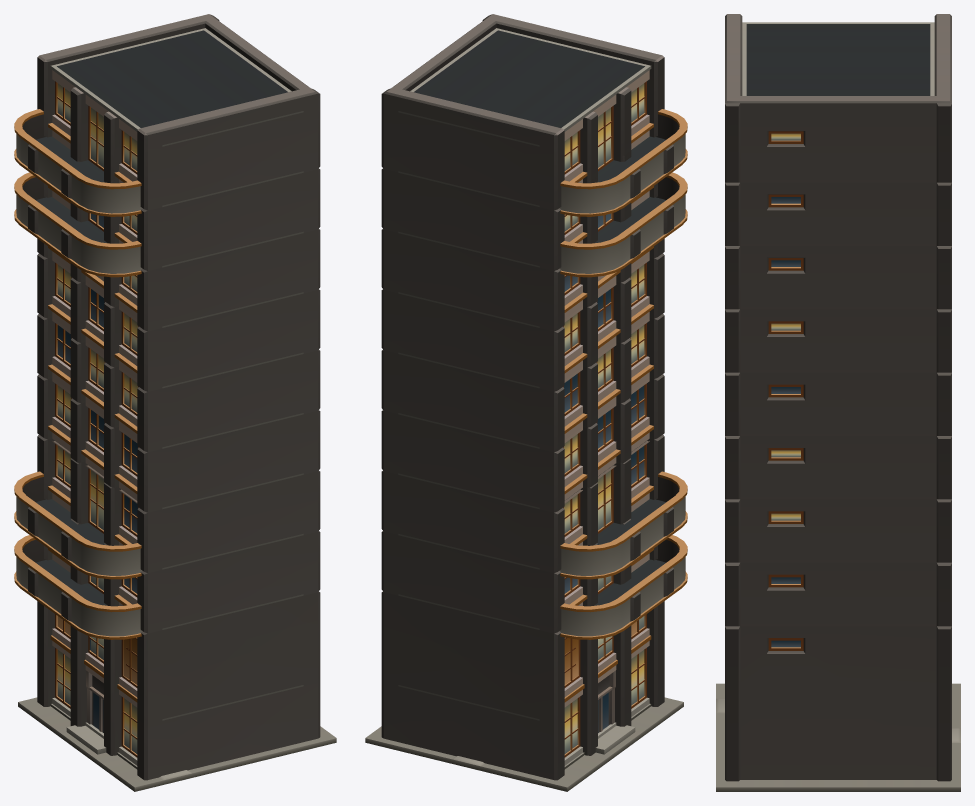
Rendered from Building_14E.fbx.
3 views of the same model, side by side, from view 1: azimuth 30°, elevation 25°; view 2: azimuth 150°, elevation 25°; view 3: azimuth 270°, elevation 25° (orthographic). The views are drawn at different scales.
Parts seen in each view (by area): view 1: Building_14E, Window_Lights_14E; view 2: Building_14E, Window_Lights_14E; view 3: Building_14E, Window_Lights_14E.
Part boxes in pixels (left/top/right/bottom): Building_14E: left=14, top=14, right=336, bottom=791; Window_Lights_14E: left=57, top=83, right=137, bottom=753; Building_14E: left=365, top=14, right=687, bottom=791; Window_Lights_14E: left=564, top=83, right=644, bottom=753; Building_14E: left=716, top=14, right=960, bottom=791; Window_Lights_14E: left=771, top=133, right=800, bottom=520.
Bounding box in the file's own units: 15.98 × 43.1 × 14.
